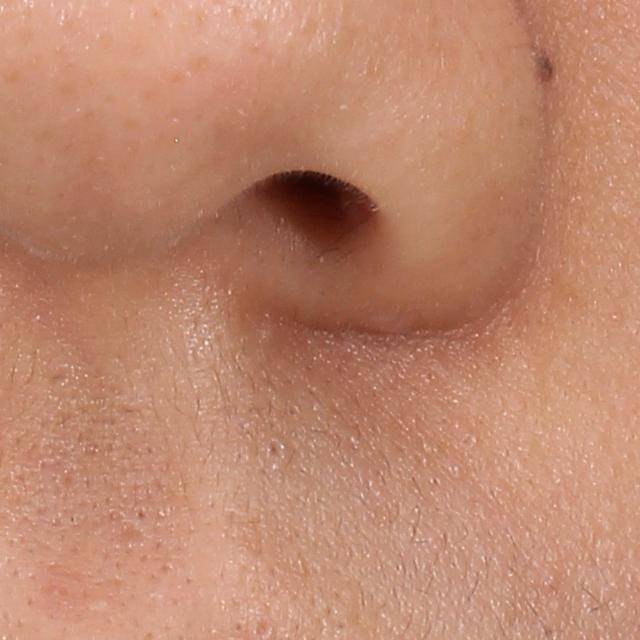nevus: (538, 48, 553, 80)
